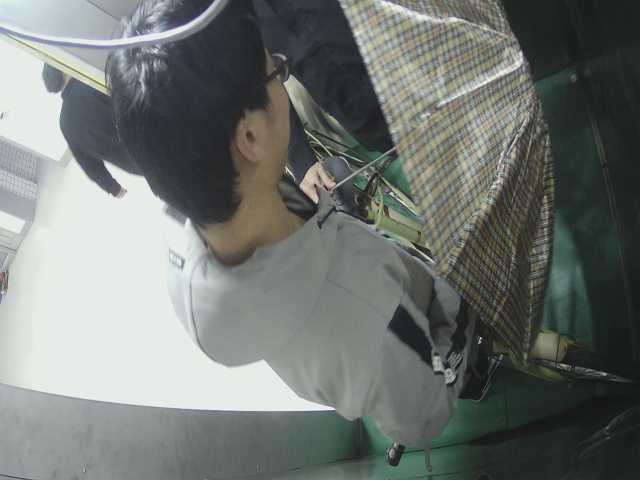bicycle: (300, 119, 634, 401)
person: (108, 2, 487, 438), (34, 55, 164, 206)
